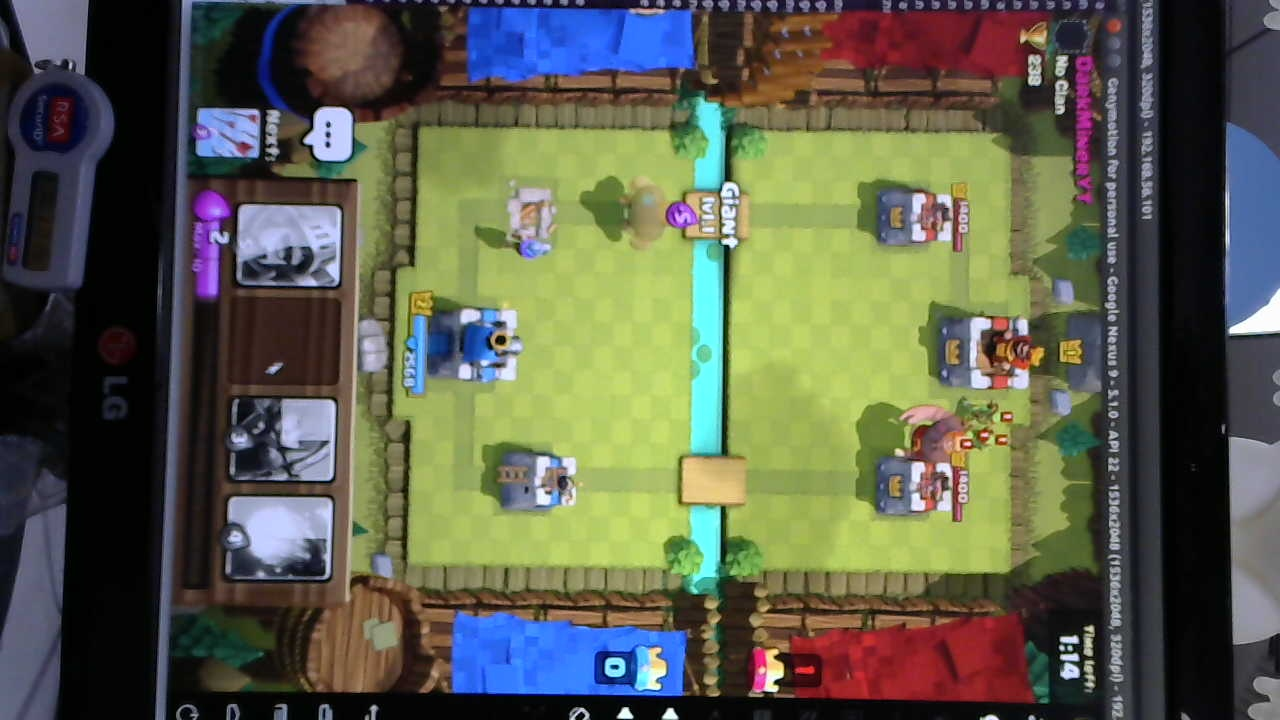arena: (496, 448, 582, 514)
darena: (501, 183, 563, 250)
earena: (870, 453, 954, 518), (867, 188, 954, 249)
eking: (932, 310, 1041, 391)
giant: (898, 401, 972, 470)
king: (433, 308, 519, 383)
musketeer: (508, 237, 559, 263)
speargoblins: (955, 400, 1009, 459)
